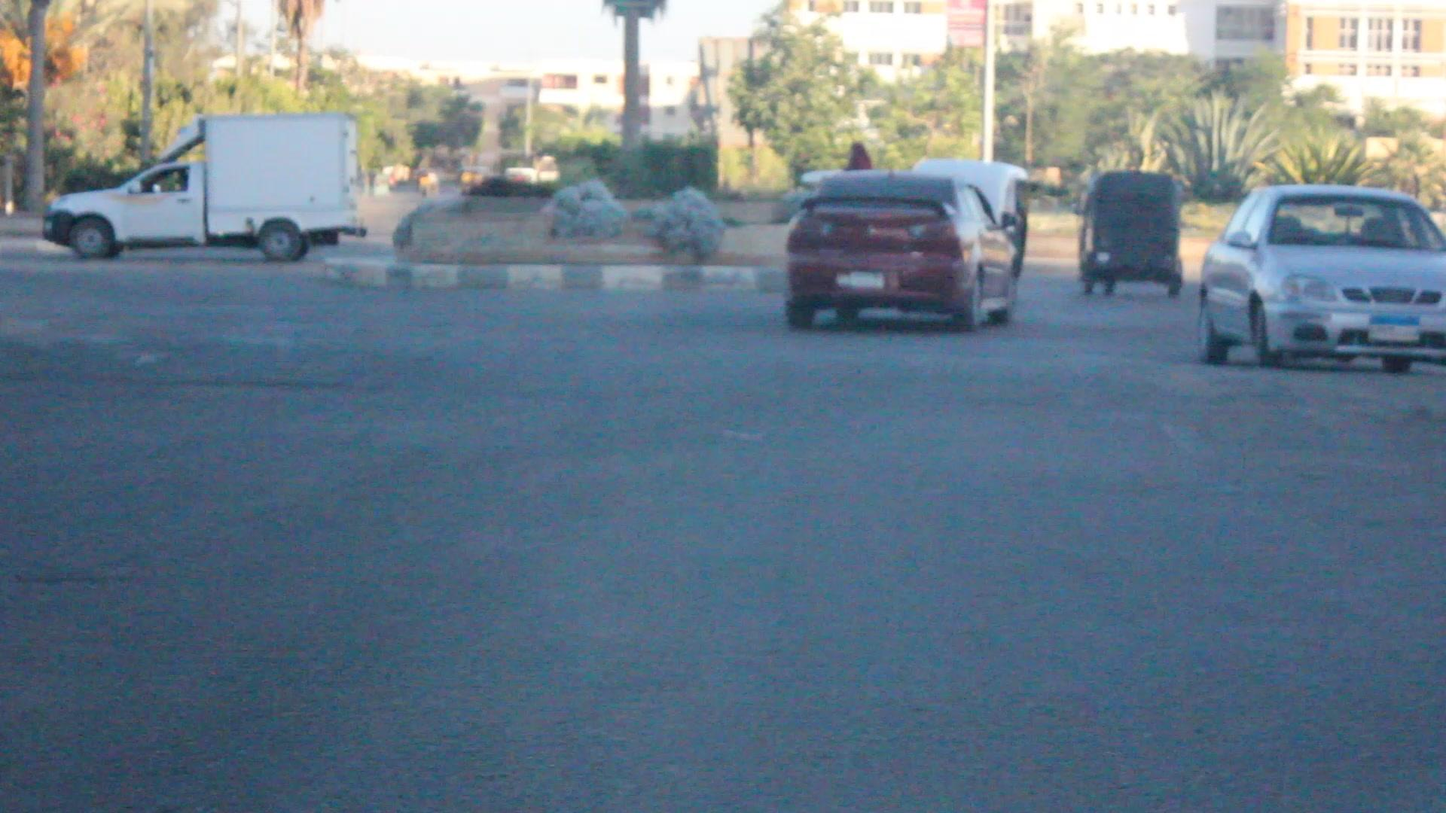Bump: (1, 310, 1445, 429)
